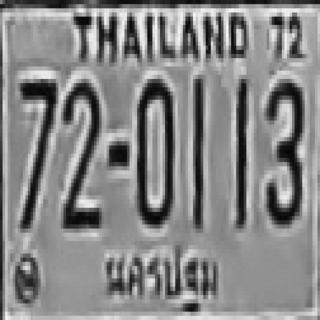N00: (135, 75, 173, 224)
N01: (235, 77, 248, 226), (190, 75, 203, 224)
N02: (61, 77, 99, 226)
N03: (264, 75, 302, 220)
N07: (18, 75, 56, 229)
P28: (99, 241, 226, 318)
